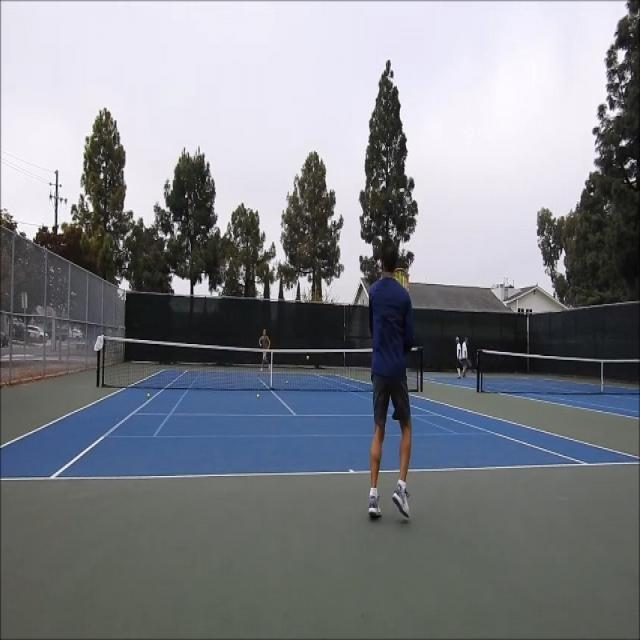court: (0, 370, 640, 480)
player: (368, 243, 415, 520)
